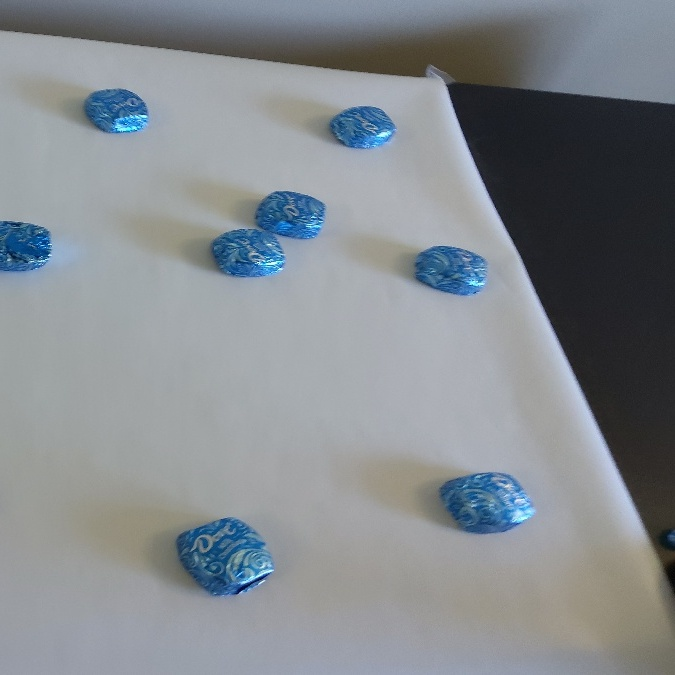chocolate_blue: (428, 461, 538, 547), (177, 512, 276, 606), (404, 234, 494, 307), (207, 223, 284, 294), (246, 184, 335, 244), (321, 100, 400, 156), (79, 83, 151, 139)
